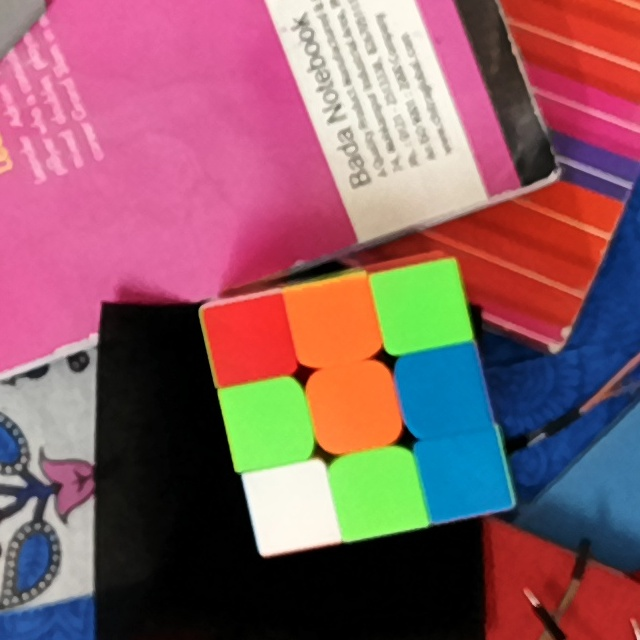tile: (317, 372, 387, 439), (297, 288, 368, 354), (386, 276, 457, 340), (411, 358, 477, 426), (342, 459, 411, 523), (235, 391, 300, 457), (214, 308, 280, 372), (428, 444, 496, 505), (259, 474, 325, 533)
